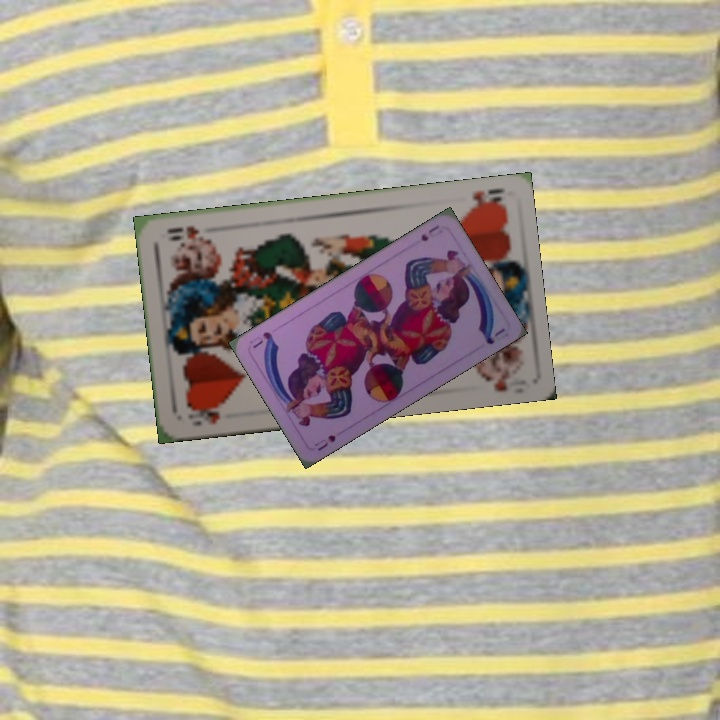HO: (461, 184, 507, 213), (182, 401, 223, 428)
SU: (310, 431, 339, 453), (417, 221, 442, 244)
